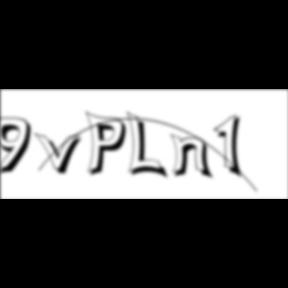1: (214, 114, 248, 182)
9: (0, 117, 38, 177)
L: (127, 110, 171, 182)
P: (86, 110, 132, 180)
n: (171, 132, 218, 181)
v: (34, 131, 88, 177)
